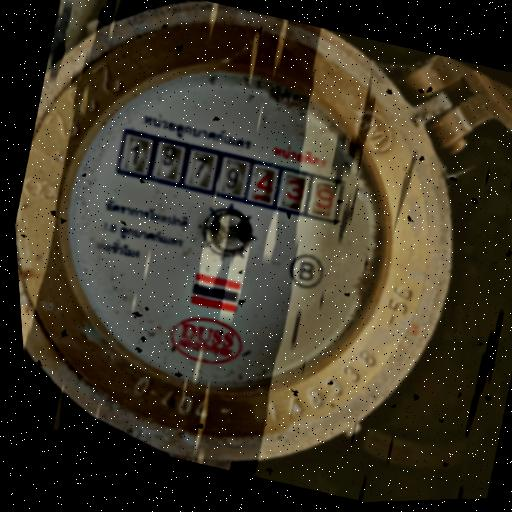1: (122, 137, 150, 173)
3: (278, 172, 308, 211)
4: (248, 167, 278, 205)
7: (187, 152, 216, 189)
9: (153, 144, 184, 181), (308, 181, 338, 216), (220, 160, 248, 196)
border_water_meter_number: (112, 122, 349, 231)
